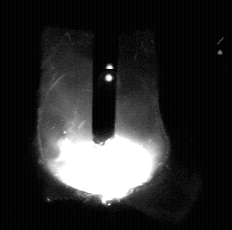arame: (92, 0, 117, 144)
poca: (37, 0, 170, 230)
